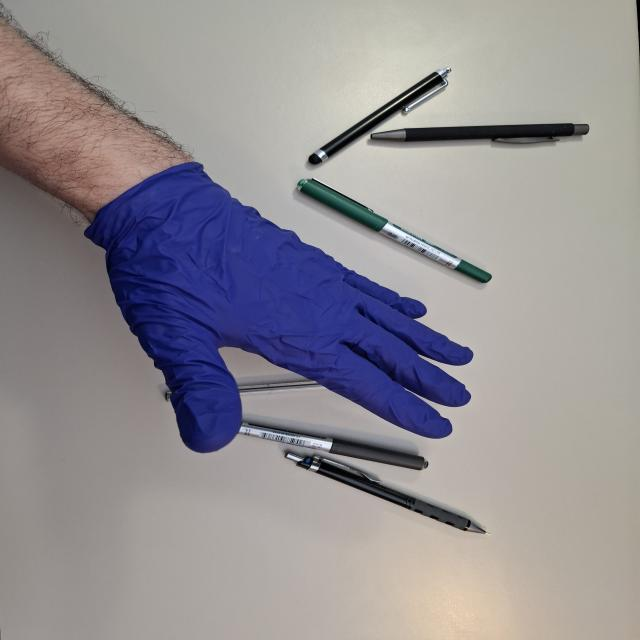glove_on: (76, 158, 478, 458)
